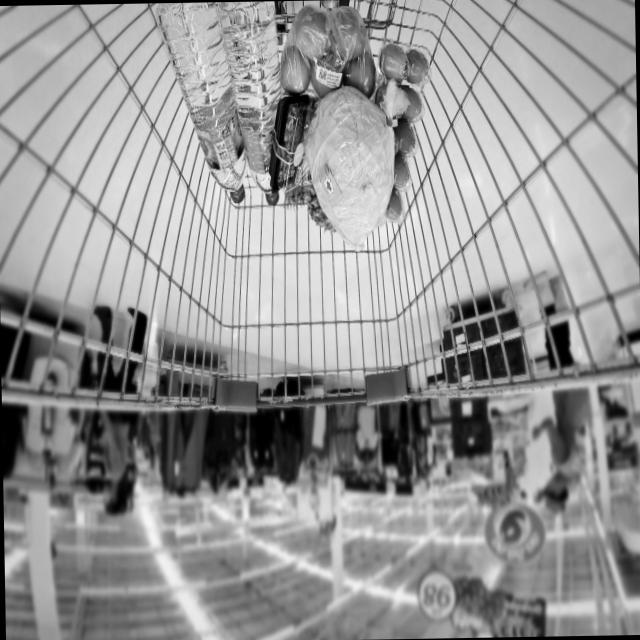bap cai: (296, 78, 394, 242)
tao: (276, 2, 382, 104)
trung: (369, 34, 432, 225)
